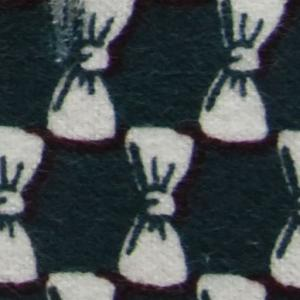Damage: (37, 1, 91, 73)
